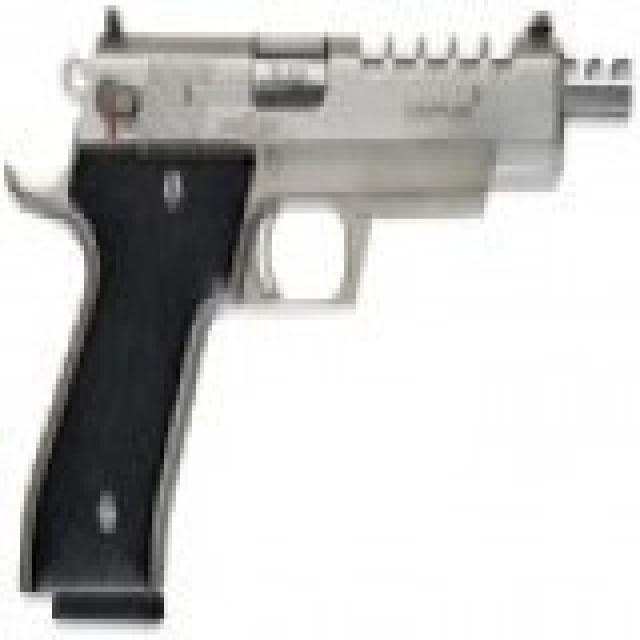Gun: (19, 14, 640, 582)
